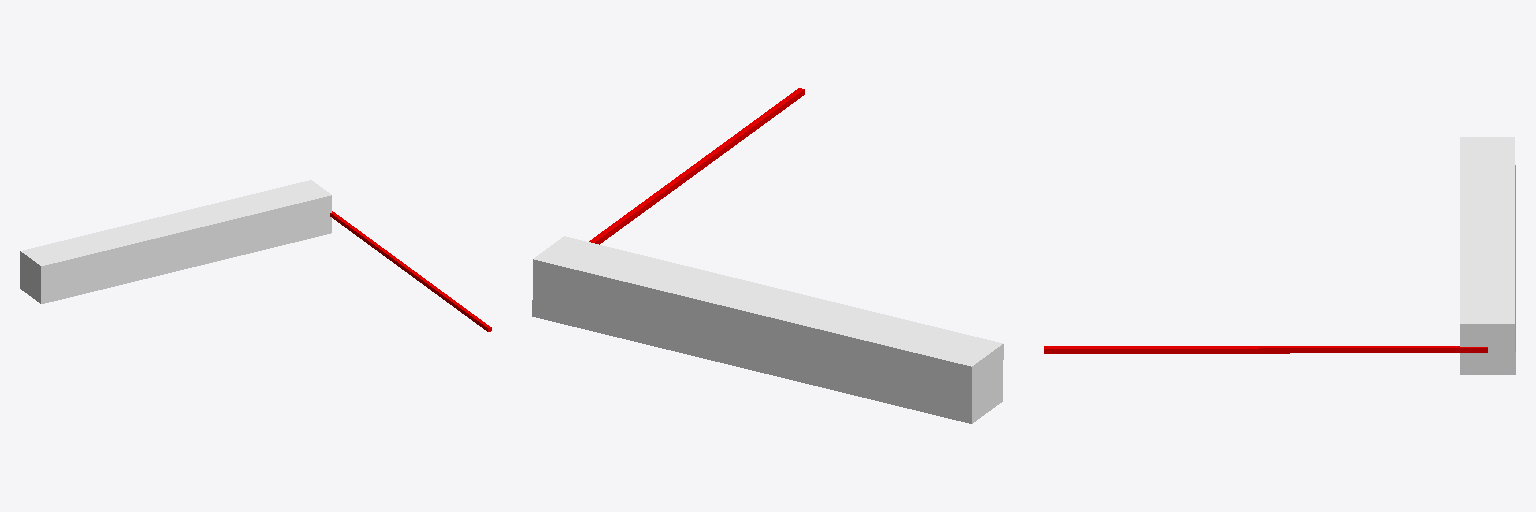
robot.urdf — L_shaped_tool:
<?xml version="1.0" ?>
<robot name="L_shaped_tool">

  <!-- Root link -->
  <link name="moving_link">
    <inertial>
      <mass value="0.276" />
      <origin xyz="0 0 0" rpy="0 0 0"/>
      <inertia ixx="0.0004" ixy="0.0" ixz="0.0" iyy="0.0004" iyz="0.0" izz="0.0004" />
    </inertial>
    <visual>
      <origin rpy="0 0 0" xyz="0 0 0" />
      <geometry><mesh filename="distal.obj" scale="1 1 1" /></geometry>
      <material name="grey"><color rgba="0.7 0.7 0.7 1"/></material>
    </visual>
    <collision>
      <origin rpy="0 0 0" xyz="0 0 0" />
      <geometry><mesh filename="distal_coacd.obj" scale="1 1 1" /></geometry>
    </collision>
  </link>

  <joint name="ankle_mount_joint" type="fixed">
    <parent link="moving_link"/>
    <child link="pin_link"/>
    <origin xyz="0 0.08 0.03" rpy="-1.57 0 0"/>
  </joint>

  <link name="pin_link">
    <inertial>
      <origin xyz="0 0 -0.04" rpy="0 0 0"/>
      <mass value="0.01"/> <inertia ixx="0.0001" ixy="0" ixz="0" iyy="0.0001" iyz="0" izz="0.0001"/>
    </inertial>
    <visual>
      <origin xyz="0 0 -0.04" rpy="0 0 0"/>
      <geometry><box size="0.001 0.001 0.08"/></geometry>
      <material name="red"><color rgba="1 0 0 1"/></material>
    </visual>
    <collision>
      <origin xyz="0 0 -0.04" rpy="0 0 0"/>
      <geometry><box size="0.001 0.001 0.08"/></geometry>
    </collision>
  </link>

  <joint name="load_cell_joint" type="fixed">
    <parent link="pin_link"/>
    <child link="base_link"/>
    <origin xyz="0 0 0" rpy="0 0 0"/>
  </joint>

  <link name="base_link">
    <inertial>
      <origin xyz="-0.04 0 0" rpy="0 0 1.57"/>
      <mass value="0.01"/> <inertia ixx="0.0001" ixy="0" ixz="0" iyy="0.0001" iyz="0" izz="0.0001"/>
    </inertial>
    <visual>
      <origin xyz="-0.04 -0.0 0" rpy="0 0 1.57"/>
      <geometry><box size="0.01 0.08 0.01"/></geometry>
      <material name="white"><color rgba="1 1 1 1"/></material>
    </visual>
    <collision>
      <origin xyz="-0.04 0 0" rpy="0 0 1.57"/>
      <geometry><box size="0.01 0.08 0.01"/></geometry>
    </collision>
  </link>

</robot>

--- What the picture shows (computed from the rendered views, not written in the file) ---
3 views of the same robot in one strip: view 1: azimuth 30°, elevation 25°; view 2: azimuth 150°, elevation 25°; view 3: azimuth 270°, elevation 25° (orthographic).
Robot: L_shaped_tool — 3 links, 2 joints (2 fixed); root link moving_link; default pose: all joints at 0.
Visible links, largest first — view 1: base_link, pin_link; view 2: base_link, pin_link; view 3: base_link, pin_link.
Boxes of the visible links, <box> form: base_link: <box>20,180,331,303</box>; pin_link: <box>330,211,491,331</box>; base_link: <box>532,236,1003,423</box>; pin_link: <box>589,88,804,244</box>; base_link: <box>1460,137,1515,374</box>; pin_link: <box>1044,346,1487,353</box>.
Size in the robot's own frame: 0.0805 by 0.085 by 0.0101 metres.
Meshes: 1 distinct files referenced, 0 mesh visuals loaded (none loaded); not drawn: 1 (reference not matched to a file when rendering).
